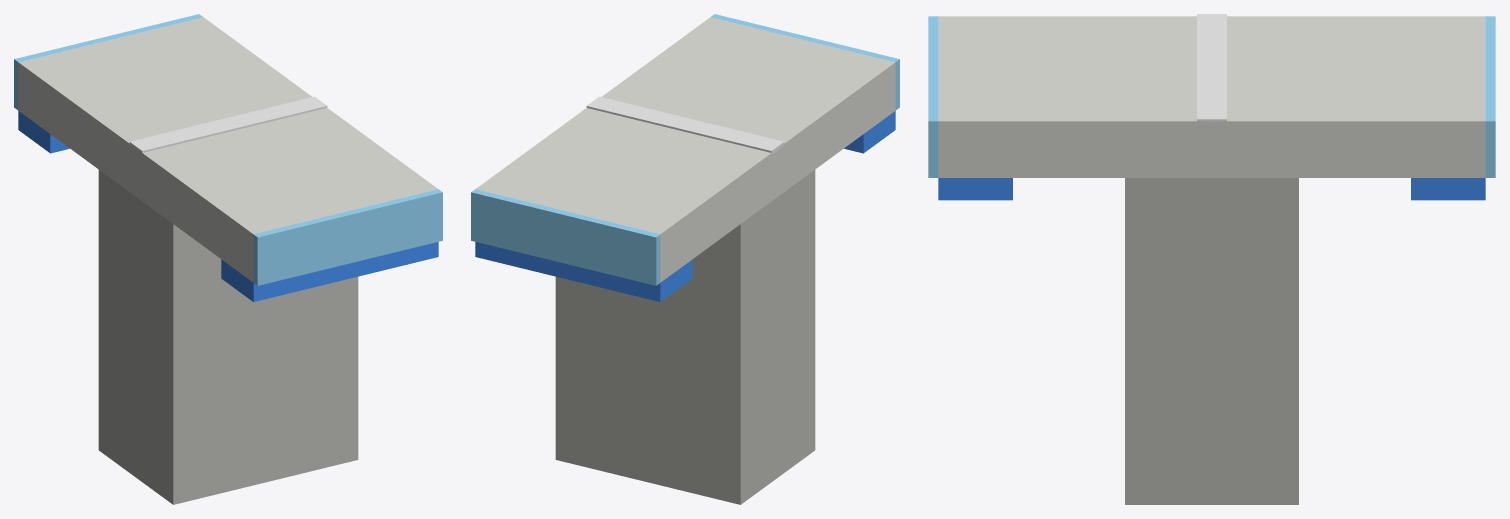
File: pride_maglev.obj
3 renders of one model, left to right at view 1: azimuth 30°, elevation 25°; view 2: azimuth 150°, elevation 25°; view 3: azimuth 270°, elevation 25°, orthographic. The views are drawn at different scales.
Visible parts, largest first — view 1: RAIL_BASE, RAIL_RIGHT, RAIL_LEFT; view 2: RAIL_BASE, RAIL_LEFT, RAIL_RIGHT; view 3: RAIL_BASE, RAIL_LEFT, RAIL_RIGHT.
Boxes of the visible parts, <box> form: RAIL_BASE: <box>18,17,438,504</box>; RAIL_RIGHT: <box>221,189,442,301</box>; RAIL_LEFT: <box>14,14,202,153</box>; RAIL_BASE: <box>475,17,895,504</box>; RAIL_LEFT: <box>471,189,692,301</box>; RAIL_RIGHT: <box>711,14,899,153</box>; RAIL_BASE: <box>938,14,1485,504</box>; RAIL_LEFT: <box>1411,16,1495,200</box>; RAIL_RIGHT: <box>928,16,1012,200</box>.
Size of the model in its own units: 1 by 1.71 by 2.28.
1 material, 1 textured.
